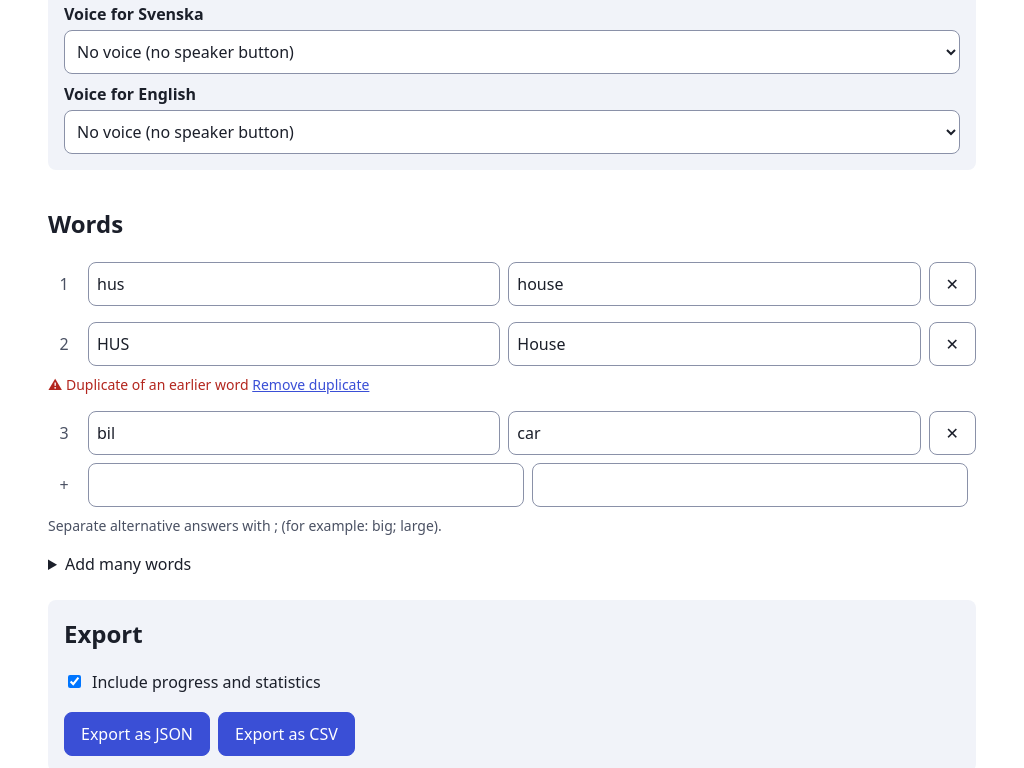
Test: removing pairs › FR-SET-6: warns about a duplicate pair and removes it with one click
The width and height of the screenshot is (1024, 768).
(page scrolled)
Expected: the heading "Words" is shown, [48,207,123,240]
Expected: the text "Duplicate of an earlier word" is shown once, [48,374,369,395]
What coordinates should you click on to do the following:
click the button "Remove duplicate"
I would click on:
 (311, 384)
Its box is [252,374,370,395].
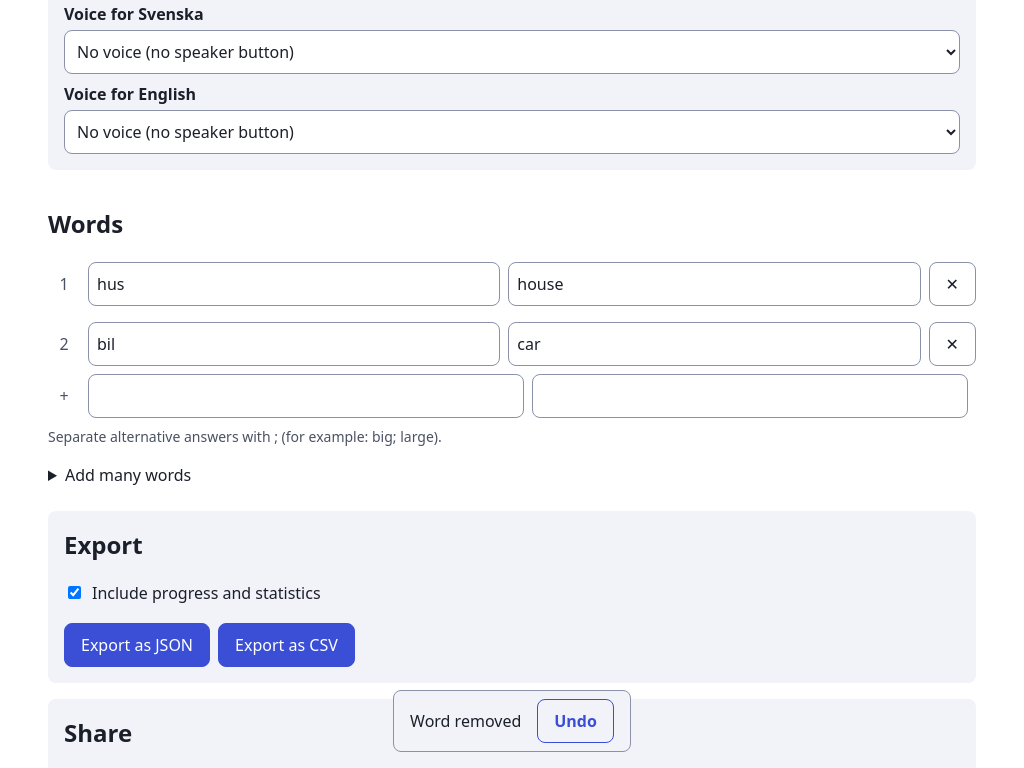
Expected: the field showing "bil" is shown, [88,322,500,366]
Expected: the text "Duplicate of an earlier word" is gone
